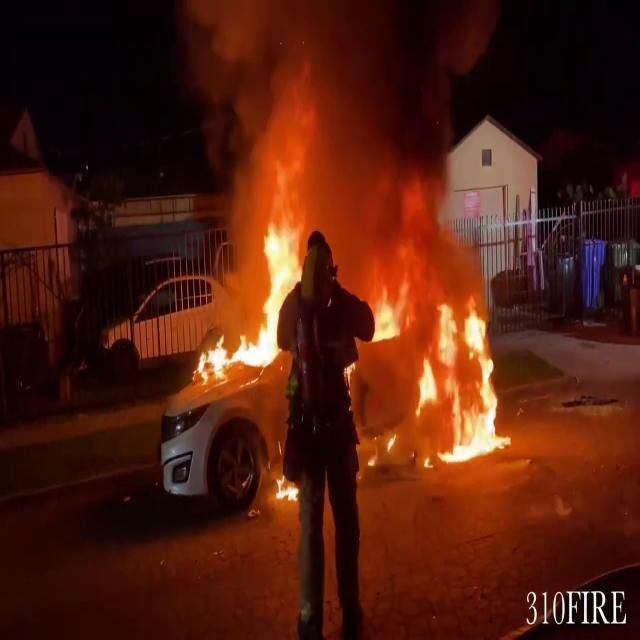Fire: (195, 210, 302, 384), (416, 291, 508, 465), (366, 284, 403, 349), (273, 468, 299, 508)
Smoke: (179, 0, 469, 268)
